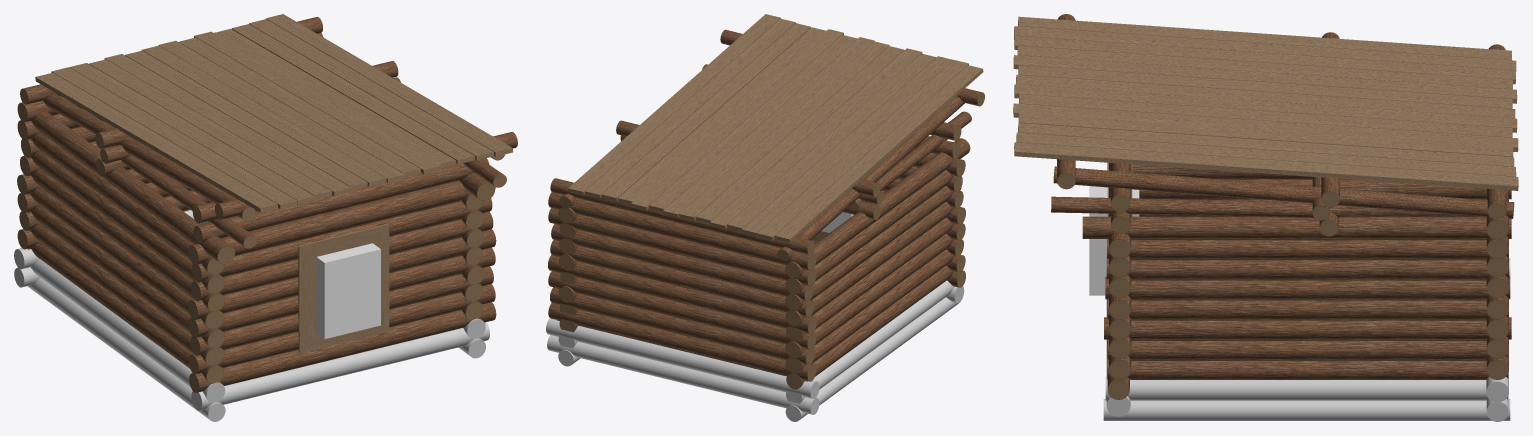
Rendered from kuznya_LOD0.fbx.
The picture shows the model from 3 angles, left to right: view 1: azimuth 30°, elevation 25°; view 2: azimuth 150°, elevation 25°; view 3: azimuth 270°, elevation 25°; orthographic projection. The views are drawn at different scales.
Parts seen in each view (by area): view 1: Куб, Цилиндр.017, Цилиндр.012, Цилиндр.033, Куб.032, Цилиндр.075, Цилиндр.013, Куб.043, Куб.045, Куб.041, Куб.044, Куб.033 (+39 smaller); view 2: Цилиндр.006, Куб.032, Цилиндр.001, Цилиндр.044, Цилиндр.042, Цилиндр.045, Цилиндр.027, Цилиндр.043, Цилиндр.046, Цилиндр.047, Цилиндр.048, Куб.043 (+28 smaller); view 3: Цилиндр.068, Цилиндр.002, Цилиндр.005, Куб.045, Цилиндр.051, Цилиндр.053, Цилиндр.054, Цилиндр.052, Цилиндр.019, Цилиндр.020, Цилиндр.067, Цилиндр.050 (+37 smaller).
Part boxes in pixels (box(x1,y1,x2,y2)): Куб: box(316, 243, 380, 338); Цилиндр.017: box(191, 322, 489, 410); Цилиндр.012: box(188, 180, 495, 264); Цилиндр.033: box(189, 302, 496, 392); Куб.032: box(35, 72, 277, 212); Цилиндр.075: box(31, 112, 234, 264); Цилиндр.013: box(193, 158, 489, 243); Куб.043: box(231, 24, 474, 164); Куб.045: box(266, 14, 513, 156); Куб.041: box(194, 31, 441, 174); Куб.044: box(249, 19, 493, 160); Куб.033: box(51, 67, 297, 209); Цилиндр.006: box(546, 318, 819, 398); Куб.032: box(774, 65, 983, 242); Цилиндр.001: box(547, 335, 819, 414); Цилиндр.044: box(548, 271, 816, 349); Цилиндр.042: box(548, 303, 816, 381); Цилиндр.045: box(548, 254, 816, 333); Цилиндр.027: box(548, 192, 816, 270); Цилиндр.043: box(550, 287, 814, 365); Цилиндр.046: box(550, 239, 814, 317); Цилиндр.047: box(551, 224, 813, 301); Цилиндр.048: box(548, 208, 816, 286); Куб.043: box(601, 23, 810, 201); Цилиндр.068: box(1082, 216, 1511, 238); Цилиндр.002: box(1103, 399, 1510, 420); Цилиндр.005: box(1105, 377, 1507, 400); Куб.045: box(1014, 142, 1518, 190); Цилиндр.051: box(1104, 317, 1511, 339); Цилиндр.053: box(1105, 277, 1510, 299); Цилиндр.054: box(1106, 257, 1508, 279); Цилиндр.052: box(1107, 299, 1508, 319); Цилиндр.019: box(1053, 166, 1514, 218); Цилиндр.020: box(1107, 357, 1508, 379); Цилиндр.067: box(1107, 239, 1508, 258); Цилиндр.050: box(1108, 339, 1507, 359).
Size of the model in its own units: 3480 by 2640 by 4545.
